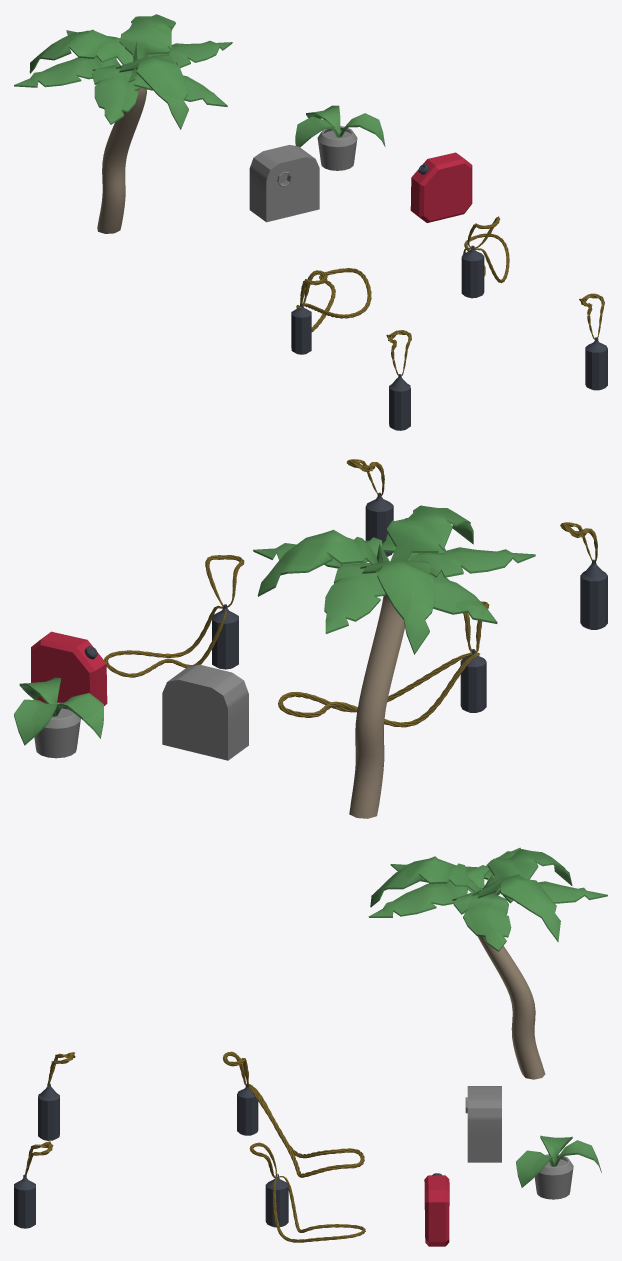
File: decorMapped.fbx
3 renders of one model, top to bottom at view 1: azimuth 30°, elevation 25°; view 2: azimuth 150°, elevation 25°; view 3: azimuth 270°, elevation 25°, orthographic. The views are drawn at different scales.
Visible parts, largest first — view 1: Charger, OIlCan, extrudedSurface1, pPlane9, pPlane7, pPlane2, pPlane8, pPlane6, pCylinder3, sweep3, pCylinder6, pCylinder4 (+7 smaller); view 2: Charger, extrudedSurface1, OIlCan, pPlane7, pPlane8, pPlane9, pPlane5, sweep3, pPlane2, sweep5, pCylinder3, pCylinder4 (+8 smaller); view 3: extrudedSurface1, Charger, pPlane4, pPlane9, pPlane8, pPlane3, OIlCan, sweep3, pPlane7, sweep5, pCylinder3, pCylinder4 (+5 smaller).
Boxes of the visible parts, x1,y1,x2,y2 form: Charger: (249,145,319,222); OIlCan: (410,152,472,222); extrudedSurface1: (97,87,147,233); pPlane9: (116,54,188,129); pPlane7: (29,29,129,73); pPlane2: (92,65,140,124); pPlane8: (119,14,175,58); pPlane6: (14,56,120,87); pCylinder3: (317,126,357,170); sweep3: (296,268,371,331); pCylinder6: (461,245,484,298); pCylinder4: (389,374,410,430); Charger: (162,664,248,760); extrudedSurface1: (349,595,404,818); OIlCan: (31,631,107,705); pPlane7: (360,560,435,654); pPlane8: (257,529,378,596); pPlane9: (386,505,473,560); pPlane5: (324,562,385,633); sweep3: (278,601,489,727); pPlane2: (410,547,535,577); sweep5: (104,555,244,677); pCylinder3: (34,702,80,758); pCylinder4: (580,559,607,629); extrudedSurface1: (477,889,545,1079); Charger: (465,1086,501,1162); pPlane4: (452,892,511,951); pPlane9: (370,856,480,907); pPlane8: (472,874,560,942); pPlane3: (368,881,474,917); OIlCan: (424,1175,449,1246); sweep3: (223,1051,364,1177); pPlane7: (488,849,572,893); sweep5: (249,1142,365,1242); pCylinder3: (534,1154,573,1199); pCylinder4: (38,1083,59,1140).
Size of the model in its own units: 7.78 by 4.42 by 9.53.
